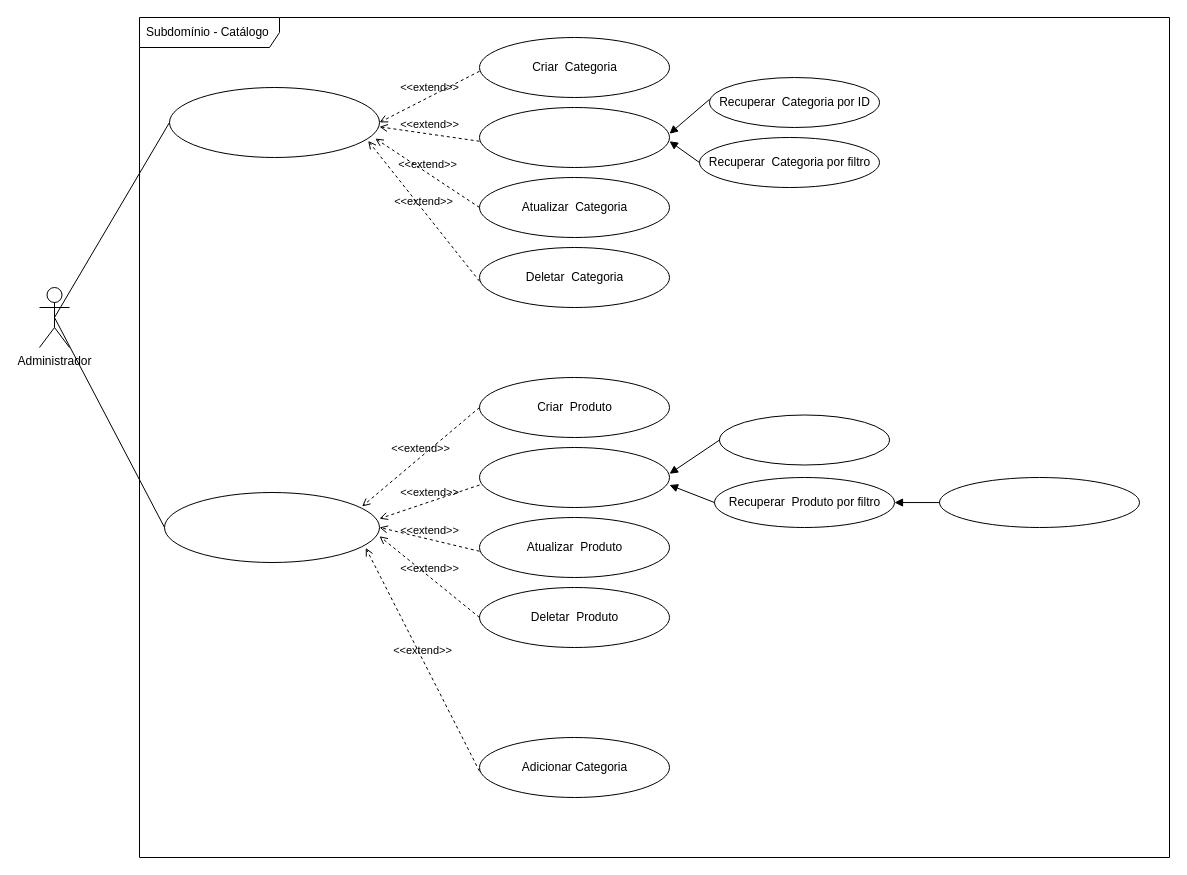
Image size: 1187x875. Some labels were removed from this diagram. Each missing label, with the centre of its shape:
"Gerenciar Categoria" goes at (x=274, y=122).
"Gerenciar Produto" goes at (x=272, y=527).
"Recuperar Categoria" goes at (x=574, y=137).
"Recuperar Produto" goes at (x=574, y=477).
"Recuperar Produto por Categoria" goes at (x=1039, y=502).
"Recuperar Produto por ID" goes at (x=804, y=439).
